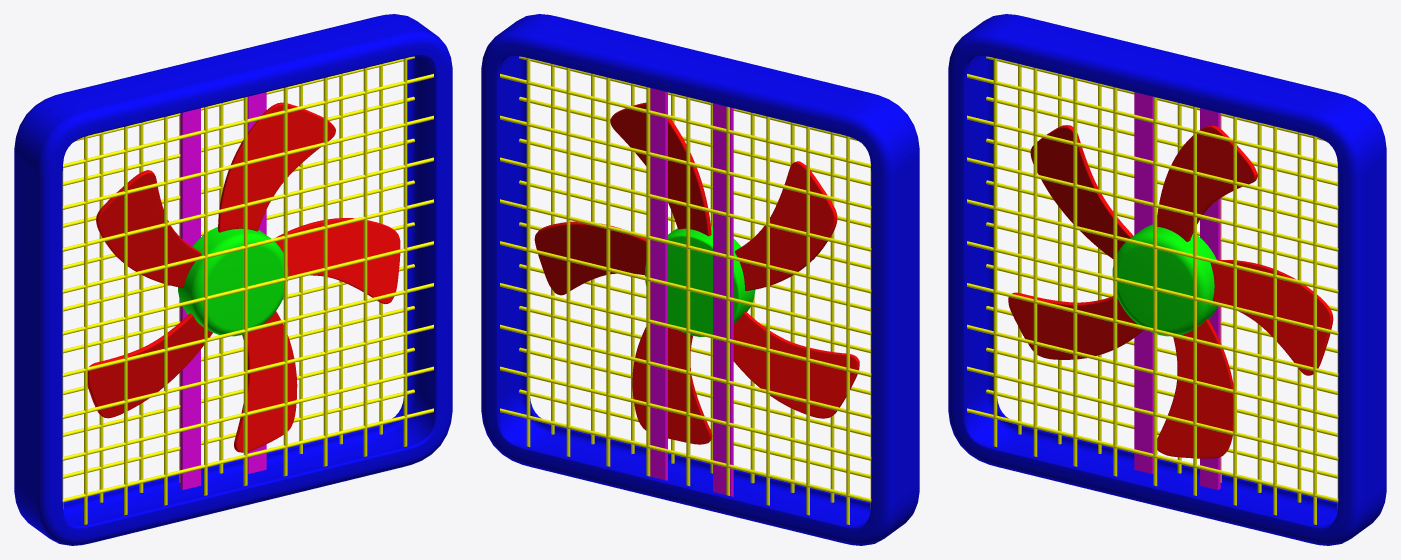
Rendered from BoxFan.fbx.
3 renders of one model, left to right at view 1: azimuth 30°, elevation 25°; view 2: azimuth 150°, elevation 25°; view 3: azimuth 330°, elevation 25°, orthographic.
Parts seen in each view (by area): view 1: FanBox, fanGrid, fanBlades, fanCentre, fanSupport; view 2: FanBox, fanGrid, fanBlades, fanSupport, fanCentre; view 3: FanBox, fanGrid, fanBlades, fanCentre, fanSupport.
Boxes of the visible parts, x1,y1,x2,y2 form: FanBox: [14, 14, 452, 545]; fanGrid: [62, 56, 433, 524]; fanBlades: [87, 102, 400, 452]; fanCentre: [178, 227, 288, 336]; fanSupport: [180, 92, 266, 489]; FanBox: [481, 14, 919, 545]; fanGrid: [500, 56, 871, 524]; fanBlades: [534, 102, 859, 444]; fanSupport: [650, 88, 733, 496]; fanCentre: [645, 226, 755, 336]; FanBox: [948, 14, 1386, 545]; fanGrid: [967, 56, 1338, 524]; fanBlades: [1008, 125, 1333, 458]; fanCentre: [1112, 224, 1218, 336]; fanSupport: [1134, 92, 1220, 489].
Bounding box in the file's own units: 88 × 88 × 12.
